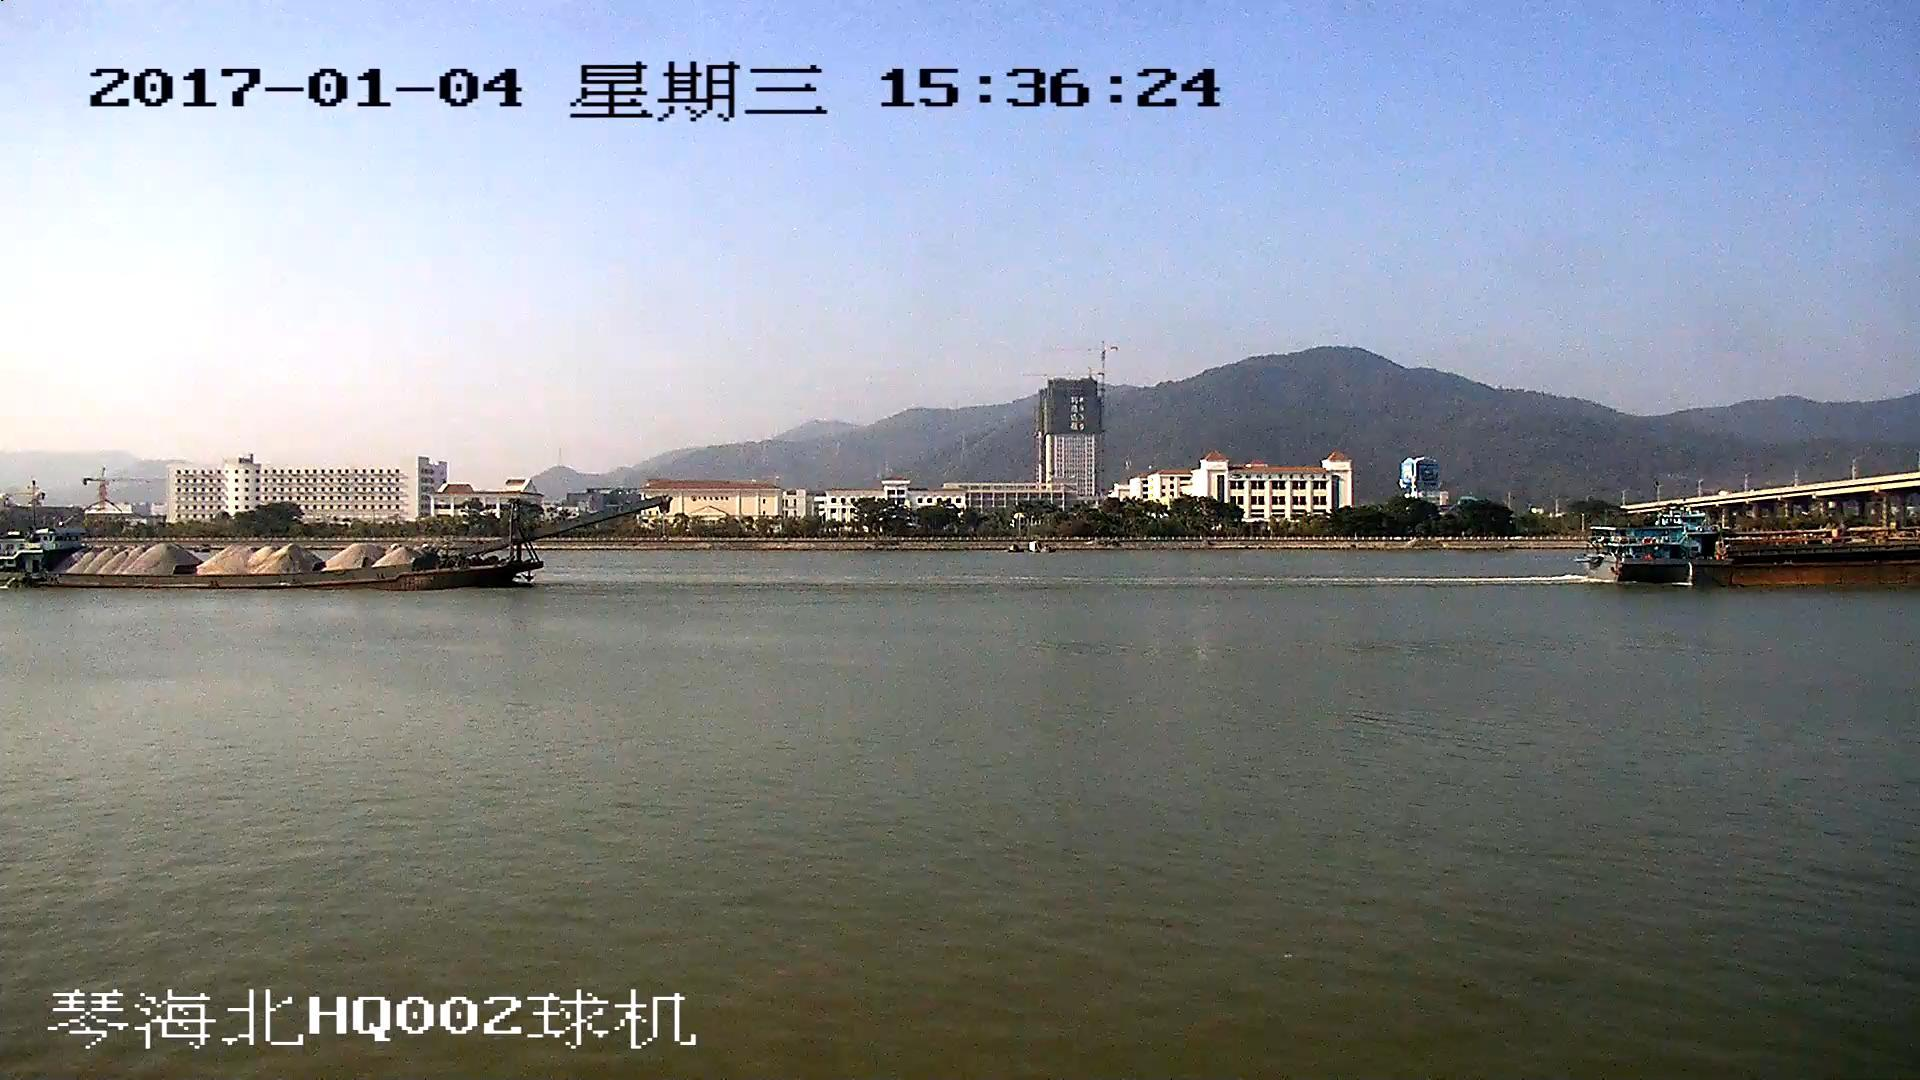Ship: (3, 501, 659, 584), (1592, 527, 1920, 587)
